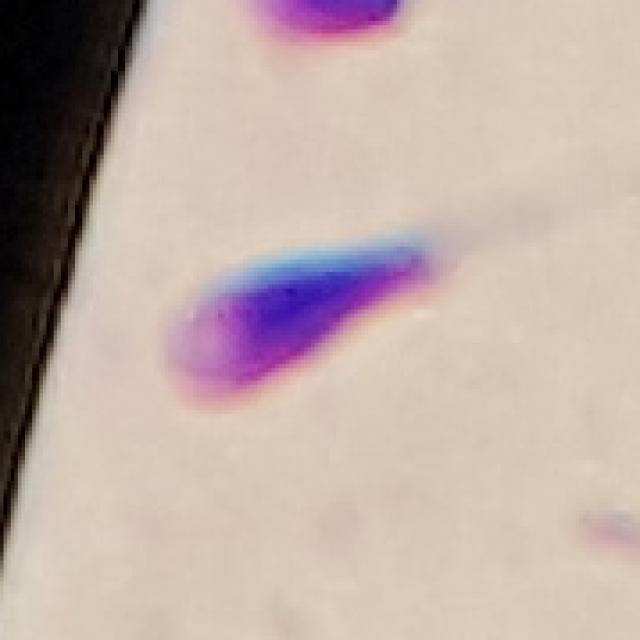abnormal sperm: (166, 202, 527, 396)
